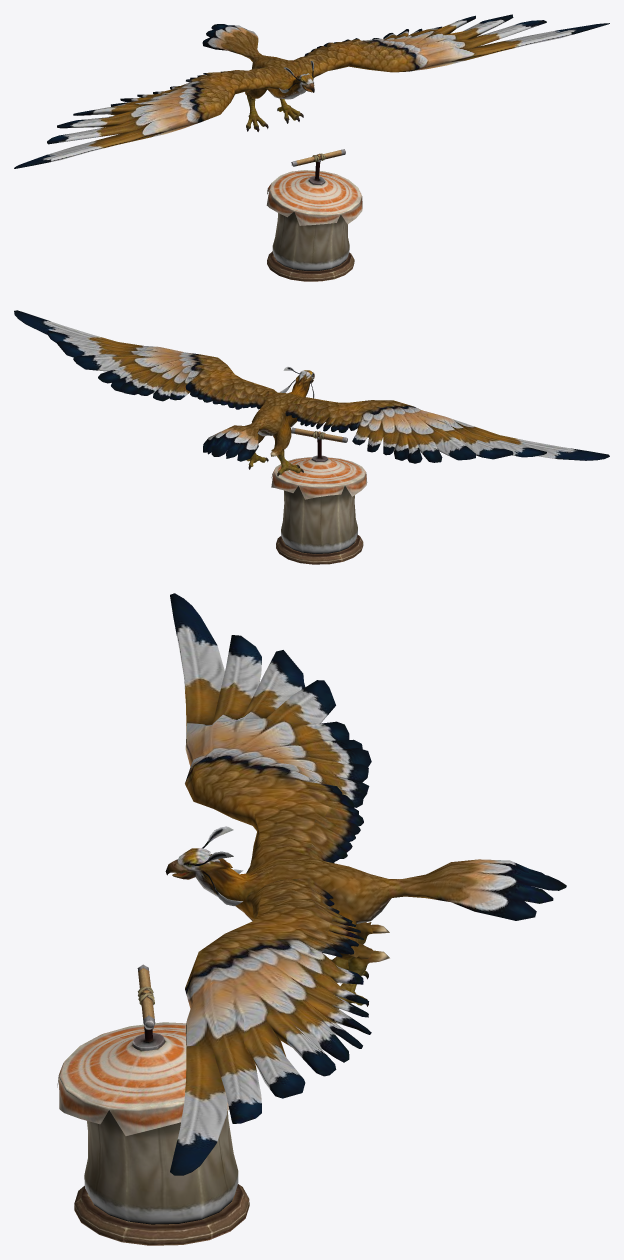
Rendered from 218-roc.glb.
3 views of the same model, one above another, from view 1: azimuth 30°, elevation 25°; view 2: azimuth 150°, elevation 25°; view 3: azimuth 270°, elevation 25° (orthographic). The views are drawn at different scales.
Bounding box in the file's own units: 19.92 × 5.98 × 7.37.
Materials: 2 (2 with a texture image).
